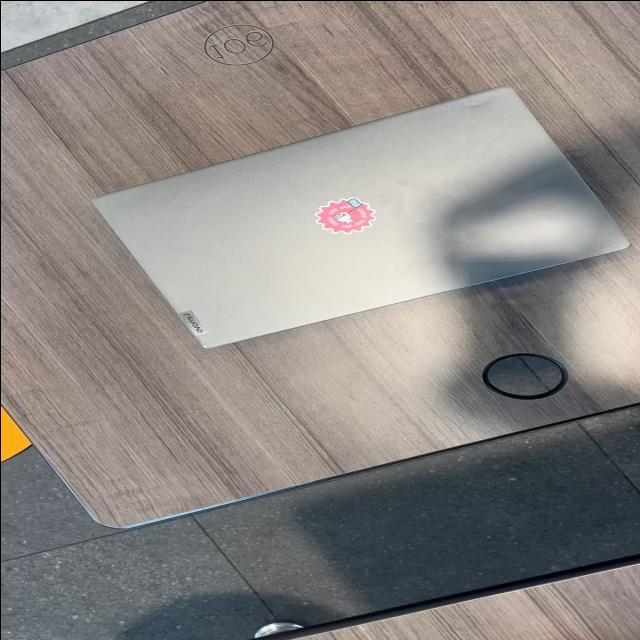laptop: (89, 84, 630, 349)
